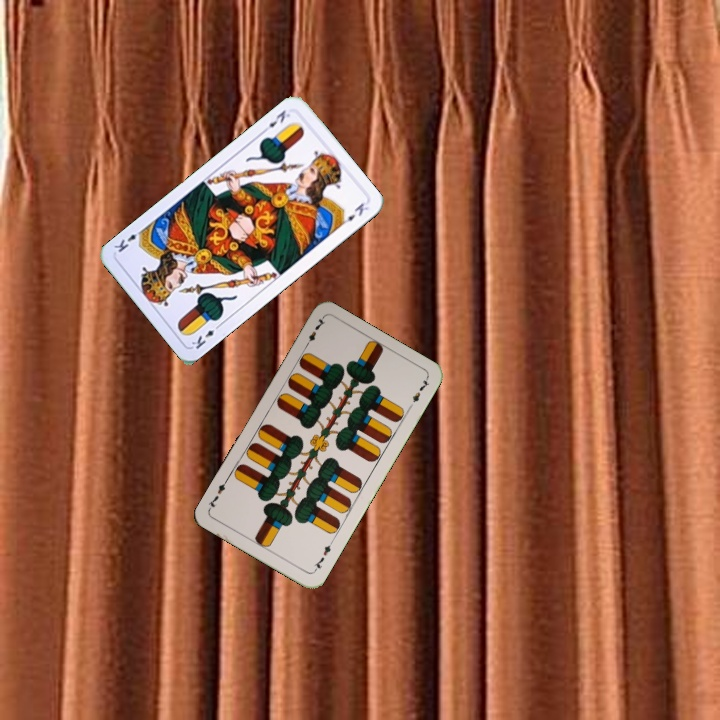E7: (300, 314, 328, 350), (309, 537, 335, 575)
EK: (187, 320, 224, 352), (258, 106, 293, 136)
